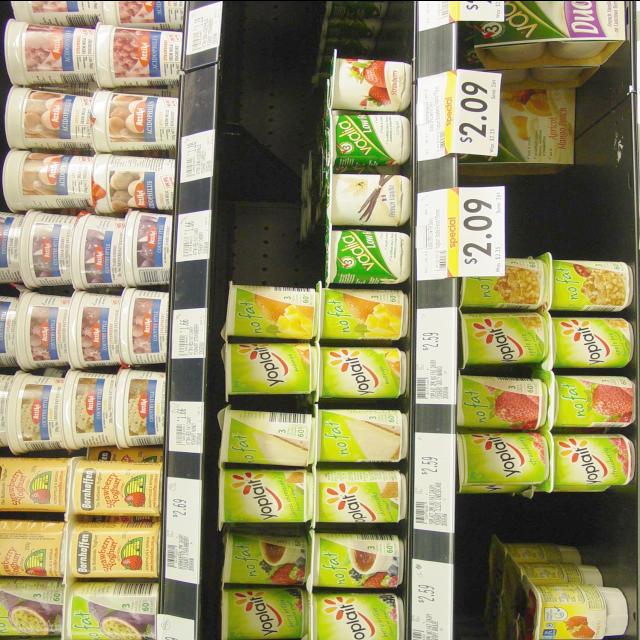empty_space: (240, 33, 312, 247), (519, 163, 617, 249), (479, 501, 615, 543), (583, 69, 627, 149), (333, 0, 428, 37)
